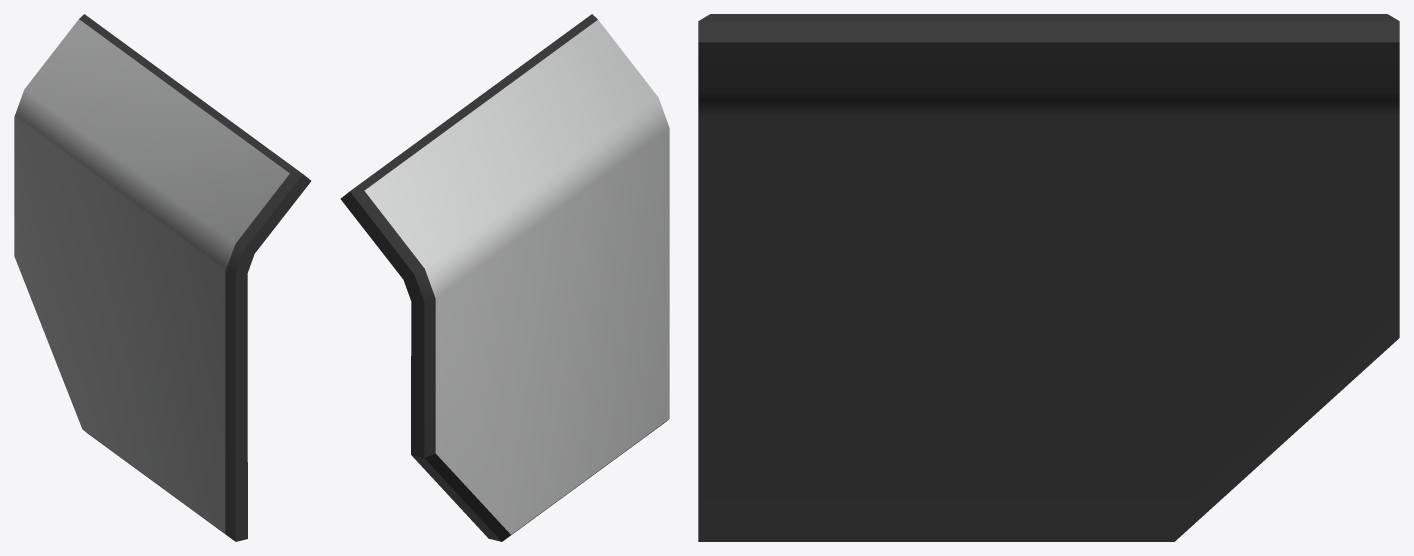
Rendered from Generator_rotor_012.fbx.
The picture shows the model from 3 angles, left to right: view 1: azimuth 30°, elevation 25°; view 2: azimuth 150°, elevation 25°; view 3: azimuth 270°, elevation 25°; orthographic projection. The views are drawn at different scales.
Parts seen in each view (by area): view 1: Generator_rotor_012; view 2: Generator_rotor_012; view 3: Generator_rotor_012.
Boxes of the visible parts, x1,y1,x2,y2 form: Generator_rotor_012: (14,14,311,541); Generator_rotor_012: (340,14,669,541); Generator_rotor_012: (698,14,1399,541).
Bounding box in the file's own units: 12.59 × 57.86 × 51.32.
